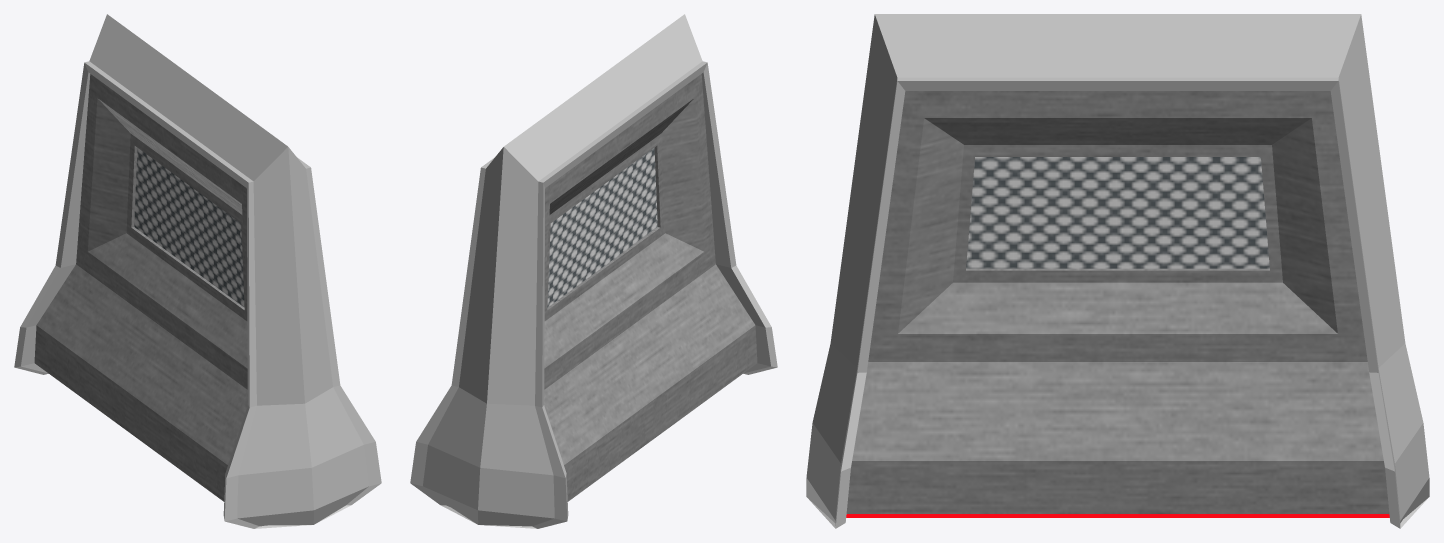
Rendered from ObstacleStreight.fbx.
The picture shows the model from 3 angles, left to right: view 1: azimuth 30°, elevation 25°; view 2: azimuth 150°, elevation 25°; view 3: azimuth 270°, elevation 25°; orthographic projection. The views are drawn at different scales.
Visible parts, largest first — view 1: ObstacleStreight; view 2: ObstacleStreight; view 3: ObstacleStreight.
Boxes of the visible parts, x1,y1,x2,y2 form: ObstacleStreight: [14, 14, 381, 528]; ObstacleStreight: [410, 14, 777, 528]; ObstacleStreight: [806, 14, 1429, 528].
Bounding box in the file's own units: 97.39 × 213 × 249.
